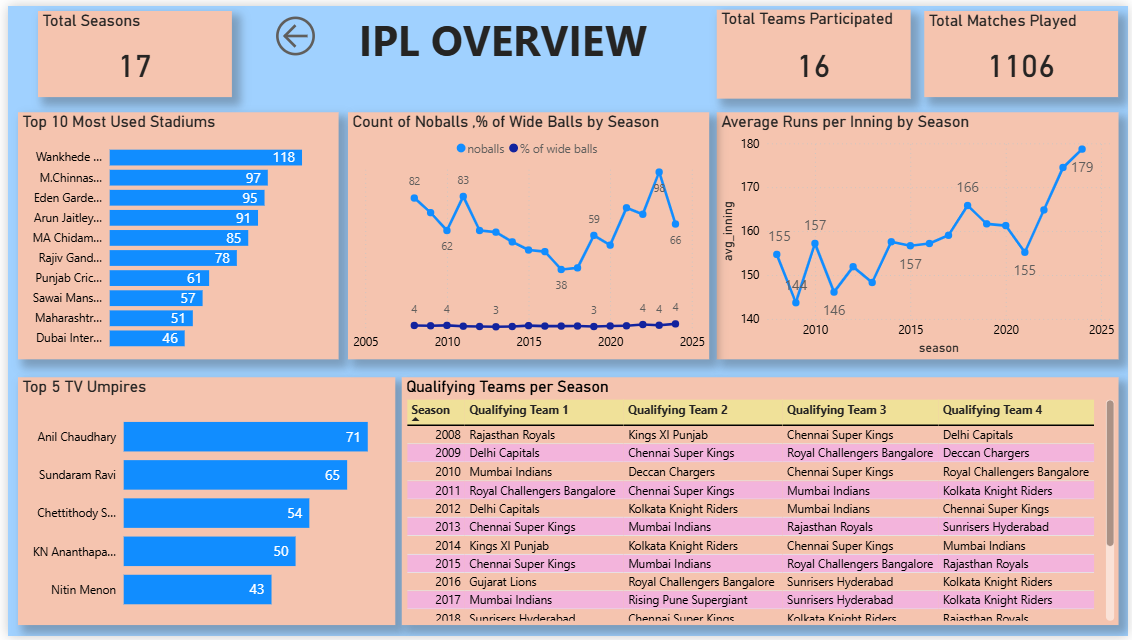

The dashboard page shown, as its layout file describes it:
{"tool":"powerbi","page":{"name":"ipl overview","canvas":[1280,720],"ordinal":1},"visuals":[{"type":"textbox","box":[364.3,0,402.9,102.9],"z":0},{"type":"actionButton","box":[300,5.7,107.1,57.1],"z":1000},{"type":"card","title":"Total Seasons","fields":{"Values":["Count(season_summary.season)"]},"box":[33.8,6.2,221.2,98.8],"z":2000},{"type":"card","title":"Total Teams Participated","fields":{"Values":["Count(points_table.name)"]},"box":[810,3.8,221.2,101.2],"z":3000},{"type":"card","title":"Total Matches Played","fields":{"Values":["CountNonNull(season_summary.id)"]},"box":[1047.5,6.2,221.2,98.8],"z":4000},{"type":"lineChart","title":"Average Runs per Inning by Season","fields":{"Category":["season_summary.season"],"Y":["season_summary.avg_inning"]},"box":[809.5,121.4,459.5,282.1],"z":5000},{"type":"clusteredBarChart","title":"Top 10 Most Used Stadiums","fields":{"Category":["season_summary.venue_name"],"Y":["season_summary.Rank of Stadium"]},"box":[10.7,121.4,366.7,282.1],"z":6000},{"type":"clusteredBarChart","title":"Top 5 TV Umpires","fields":{"Category":["season_summary.tv_umpire"],"Y":["season_summary.Rank of umpire"]},"box":[10.7,423.8,431,283.3],"z":7000},{"type":"lineChart","title":"Count of Noballs ,% of Wide Balls by Season","fields":{"Y":["Sum(season_bowling_card.noballs)","season_bowling_card.% of wide balls"],"Category":["season_bowling_card.season"]},"box":[388.1,121.4,413.1,282.1],"z":8000},{"type":"tableEx","title":"Qualifying Teams per Season","fields":{"Values":["points_table.season","points_table.Q_T_","points_table.Q_T_2","points_table.Q_T_3","points_table.Q_T_4"]},"box":[450,423.8,819.1,283.3],"z":9000}]}

Visuals, with their boxes in screenshot pixels (x1, y1, x2, y2), scaled from the page's 1280x720 canvas onto the 1132x640 screenshot:
textbox: left=322, top=0, right=678, bottom=91
actionButton: left=265, top=5, right=360, bottom=56
"Total Seasons" card: left=30, top=6, right=226, bottom=93
"Total Teams Participated" card: left=716, top=3, right=912, bottom=93
"Total Matches Played" card: left=926, top=6, right=1122, bottom=93
"Average Runs per Inning by Season" lineChart: left=716, top=108, right=1122, bottom=359
"Top 10 Most Used Stadiums" clusteredBarChart: left=9, top=108, right=334, bottom=359
"Top 5 TV Umpires" clusteredBarChart: left=9, top=377, right=391, bottom=629
"Count of Noballs ,% of Wide Balls by Season" lineChart: left=343, top=108, right=709, bottom=359
"Qualifying Teams per Season" tableEx: left=398, top=377, right=1122, bottom=629
